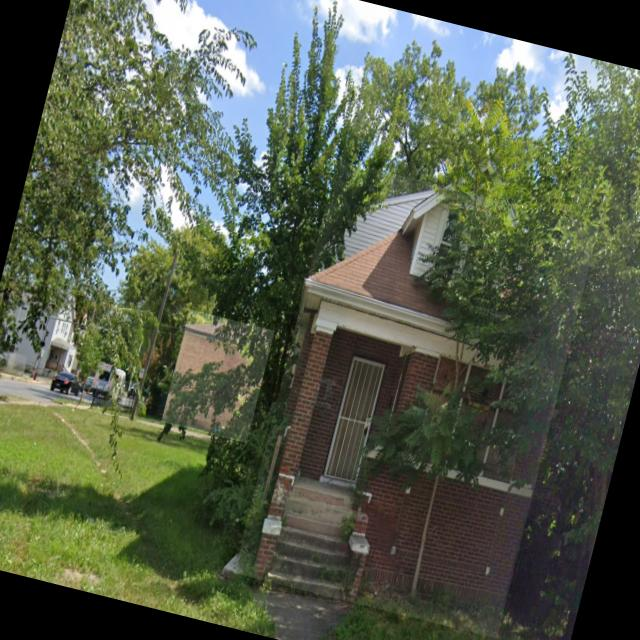House: (233, 159, 600, 638), (160, 309, 274, 443), (0, 275, 92, 389)
